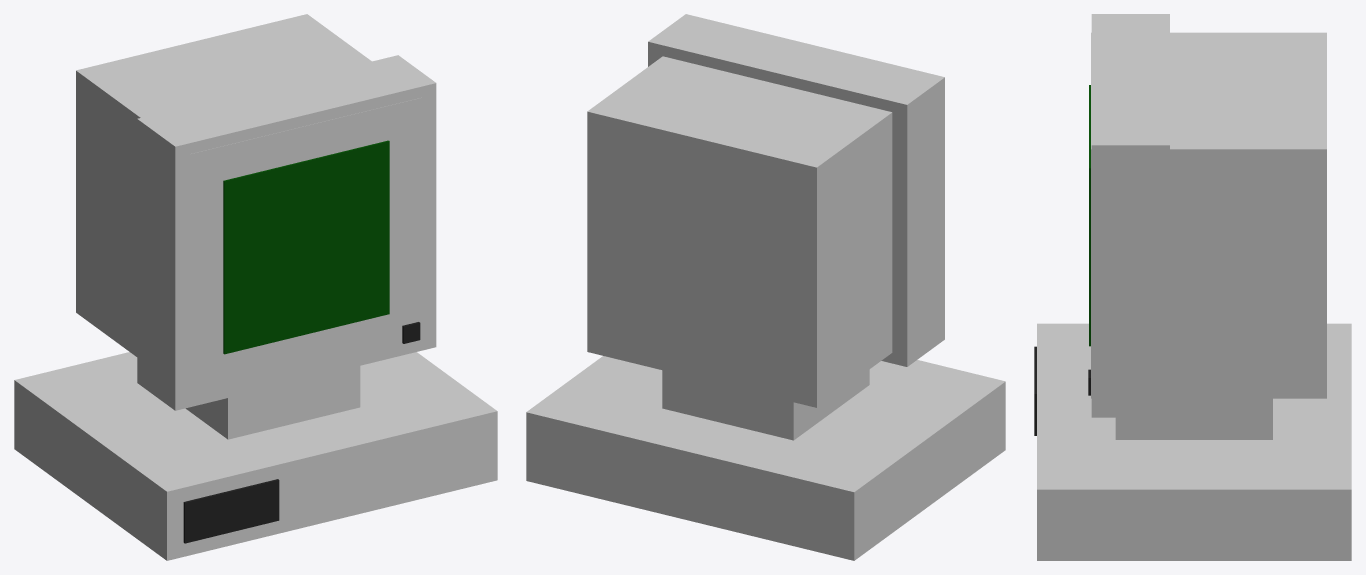
The model's file is comp1.fbx.
3 views of the same model, side by side, from view 1: azimuth 30°, elevation 25°; view 2: azimuth 150°, elevation 25°; view 3: azimuth 270°, elevation 25° (orthographic). The views are drawn at different scales.
Visible parts, largest first — view 1: Объект_Куб_2, Объект_Куб, Объект_Куб_4, Объект_Куб_3, Объект_Куб_1, Объект_Куб_5; view 2: Объект_Куб_2, Объект_Куб, Объект_Куб_4, Объект_Куб_1; view 3: Объект_Куб_2, Объект_Куб, Объект_Куб_4, Объект_Куб_1, Объект_Куб_3.
Boxes of the visible parts, left/top/right/bottom form: Объект_Куб_2: left=76, top=14, right=421, bottom=396; Объект_Куб: left=14, top=352, right=497, bottom=560; Объект_Куб_4: left=137, top=55, right=436, bottom=410; Объект_Куб_3: left=223, top=140, right=389, bottom=354; Объект_Куб_1: left=185, top=366, right=360, bottom=439; Объект_Куб_5: left=183, top=479, right=279, bottom=543; Объект_Куб_2: left=587, top=56, right=892, bottom=407; Объект_Куб: left=526, top=356, right=1005, bottom=560; Объект_Куб_4: left=648, top=14, right=944, bottom=366; Объект_Куб_1: left=662, top=369, right=869, bottom=440; Объект_Куб_2: left=1091, top=32, right=1326, bottom=398; Объект_Куб: left=1037, top=323, right=1351, bottom=560; Объект_Куб_4: left=1091, top=14, right=1169, bottom=417; Объект_Куб_1: left=1115, top=398, right=1272, bottom=439; Объект_Куб_3: left=1089, top=85, right=1090, bottom=346.
Size of the model in its own units: 1000 by 1117 by 807.
